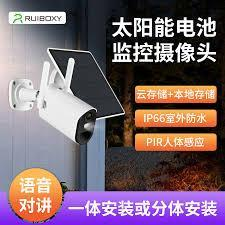tutu: (38, 87, 96, 146)
